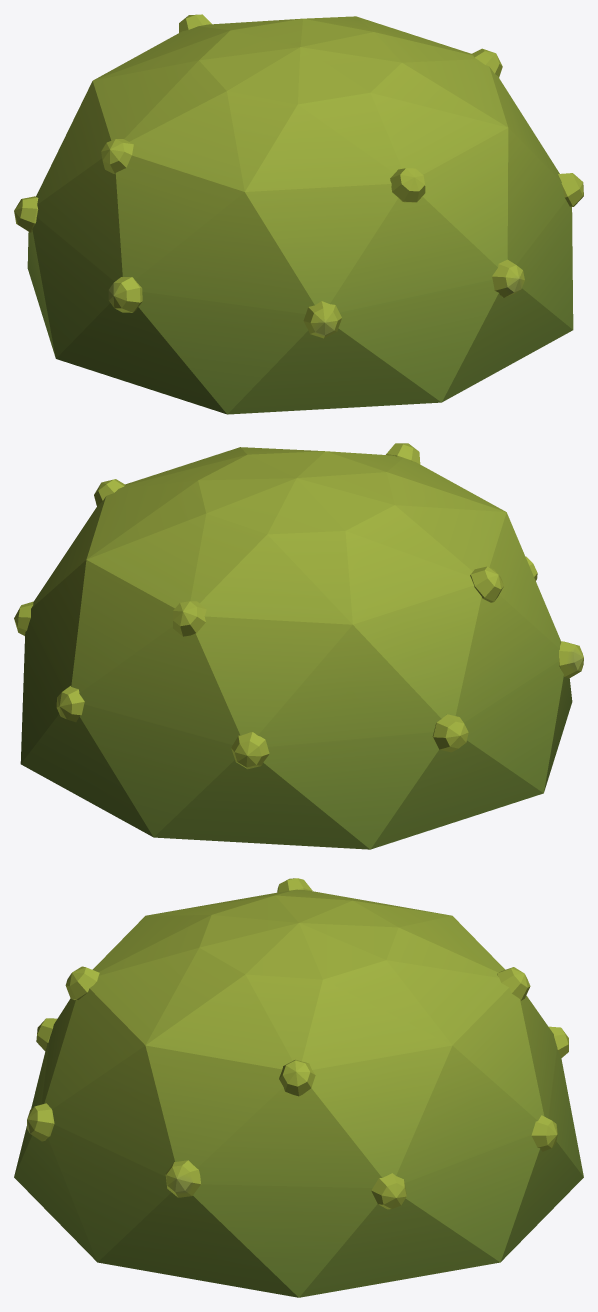
File: guanmu01.FBX
3 views of the same model, one above another, from view 1: azimuth 30°, elevation 25°; view 2: azimuth 150°, elevation 25°; view 3: azimuth 270°, elevation 25° (orthographic).
Parts seen in each view (by area): view 1: guanmu01; view 2: guanmu01; view 3: guanmu01.
Part boxes in pixels (<box>): guanmu01: <box>14,14,583,414</box>; guanmu01: <box>14,443,583,849</box>; guanmu01: <box>14,878,583,1297</box>.
Bounding box in the file's own units: 85.17 × 41.94 × 85.17.
